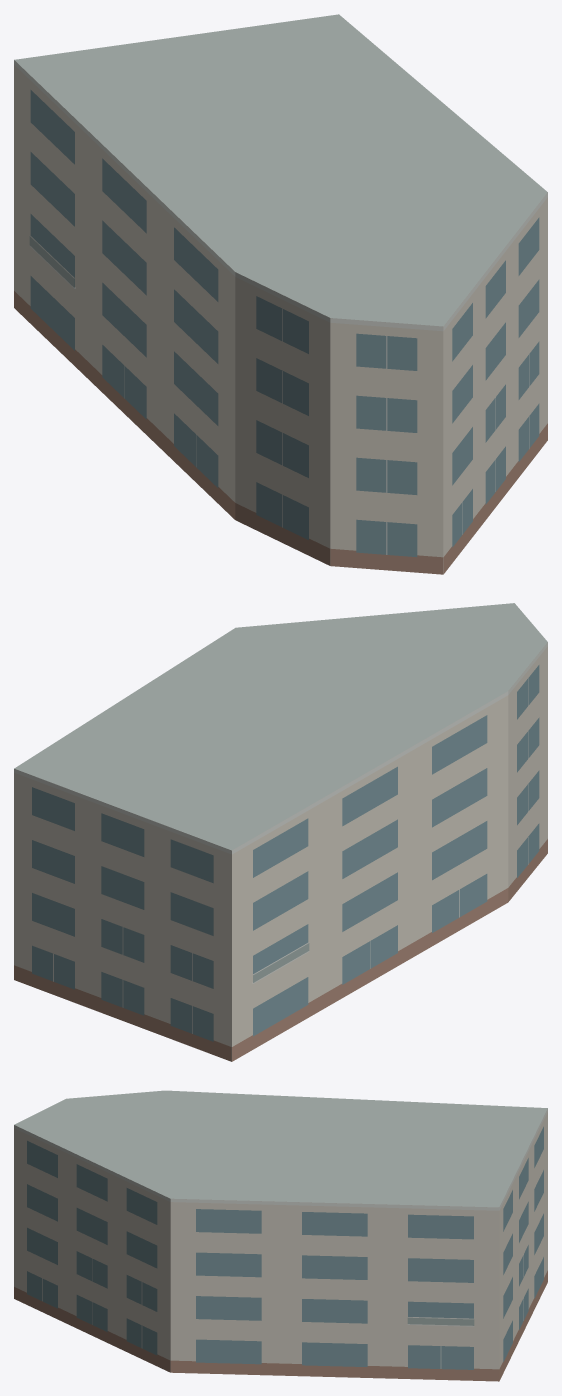
The model's file is survey-upis-32767874.glb.
3 renders of one model, top to bottom at view 1: azimuth 30°, elevation 25°; view 2: azimuth 150°, elevation 25°; view 3: azimuth 270°, elevation 25°, orthographic. The views are drawn at different scales.
Visible parts, largest first — view 1: survey-upis-32767874.tmp; view 2: survey-upis-32767874.tmp; view 3: survey-upis-32767874.tmp.
Part boxes in pixels (bbox=[...]): survey-upis-32767874.tmp: bbox=[14, 14, 547, 574]; survey-upis-32767874.tmp: bbox=[14, 603, 547, 1061]; survey-upis-32767874.tmp: bbox=[14, 1090, 547, 1381].
Bounding box in the file's own units: 18.18 × 12.6 × 35.04.
